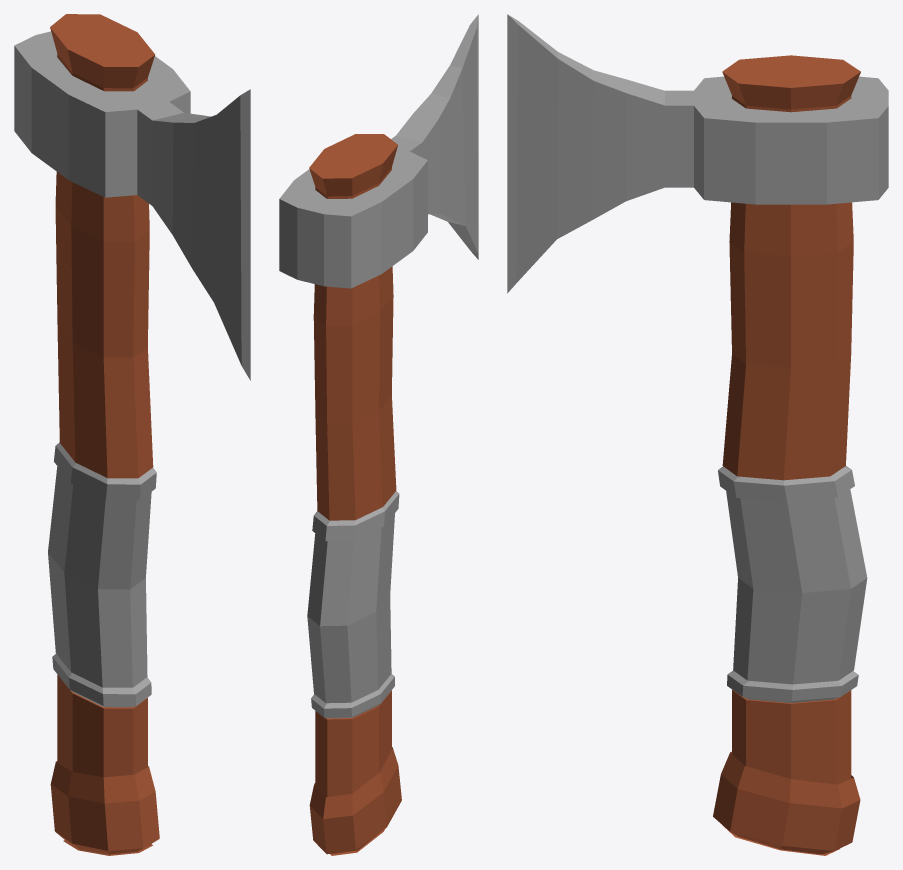
The model's file is axe 1.fbx.
The picture shows the model from 3 angles, left to right: view 1: azimuth 30°, elevation 25°; view 2: azimuth 150°, elevation 25°; view 3: azimuth 270°, elevation 25°; orthographic projection. The views are drawn at different scales.
Parts seen in each view (by area): view 1: Cube; view 2: Cube; view 3: Cube.
Boxes of the visible parts, <box> form: Cube: <box>14,14,250,855</box>; Cube: <box>279,14,478,855</box>; Cube: <box>507,14,888,855</box>.
Bounding box in the file's own units: 255 × 2037 × 844.
